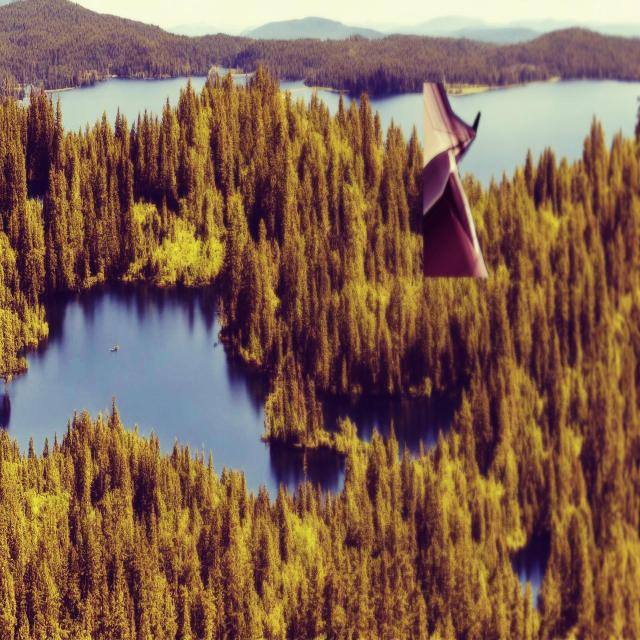airplane: (422, 80, 489, 279)
